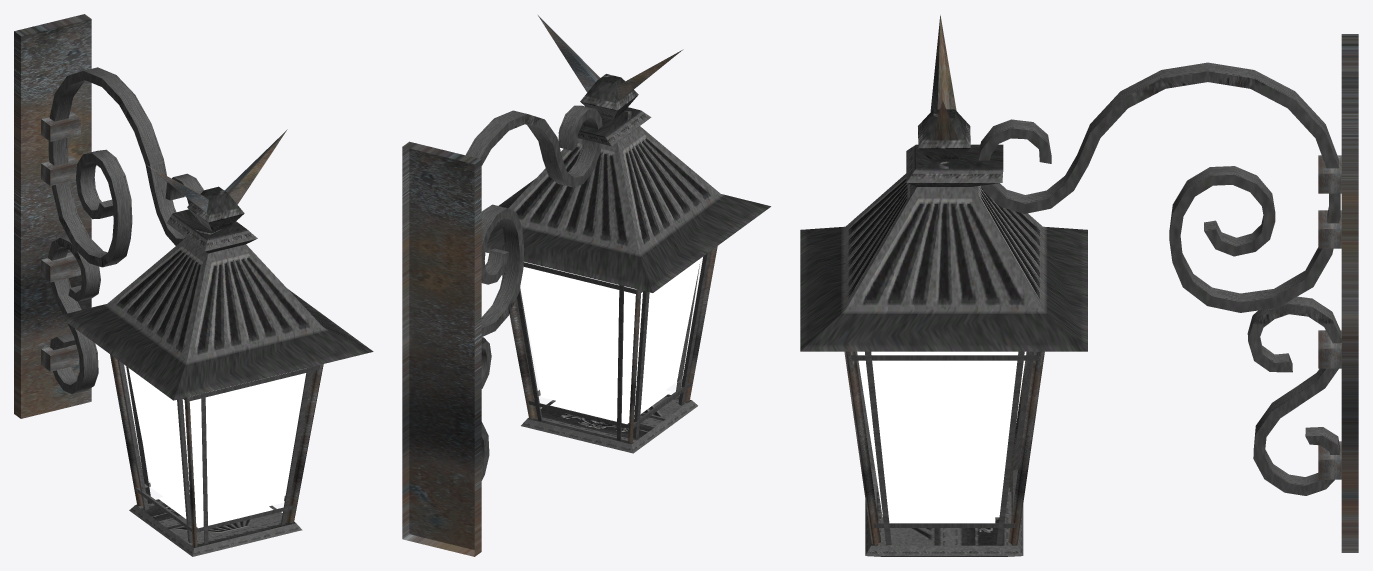
The model's file is lamp_wall_electric_01.glb.
The picture shows the model from 3 angles, left to right: view 1: azimuth 30°, elevation 25°; view 2: azimuth 150°, elevation 25°; view 3: azimuth 270°, elevation 25°; orthographic projection. The views are drawn at different scales.
Parts seen in each view (by area): view 1: lamp, Object01", Object03"; view 2: lamp, Object01", Object03"; view 3: lamp, Object03", Object01".
Part boxes in pixels (<box>): lamp: <box>48,67,373,556</box>; Object01": <box>14,14,323,546</box>; Object03": <box>128,368,306,528</box>; lamp: <box>466,74,770,480</box>; Object01": <box>402,15,717,556</box>; Object03": <box>520,258,700,423</box>; lamp: <box>800,62,1341,556</box>; Object03": <box>857,351,1026,523</box>; Object01": <box>844,15,1358,552</box>.
Bounding box in the file's own units: 0.3925 × 0.7166 × 0.7615.
3 materials, 3 textured.
